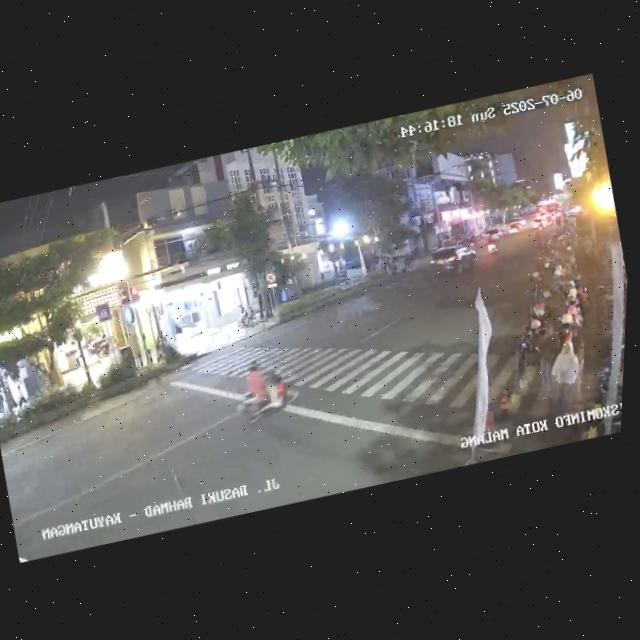car: (424, 241, 479, 280)
motorcycle: (228, 352, 300, 429), (483, 233, 500, 257)
person: (541, 337, 588, 416), (528, 320, 571, 400), (1, 379, 18, 409), (15, 385, 30, 411), (0, 380, 9, 415)
